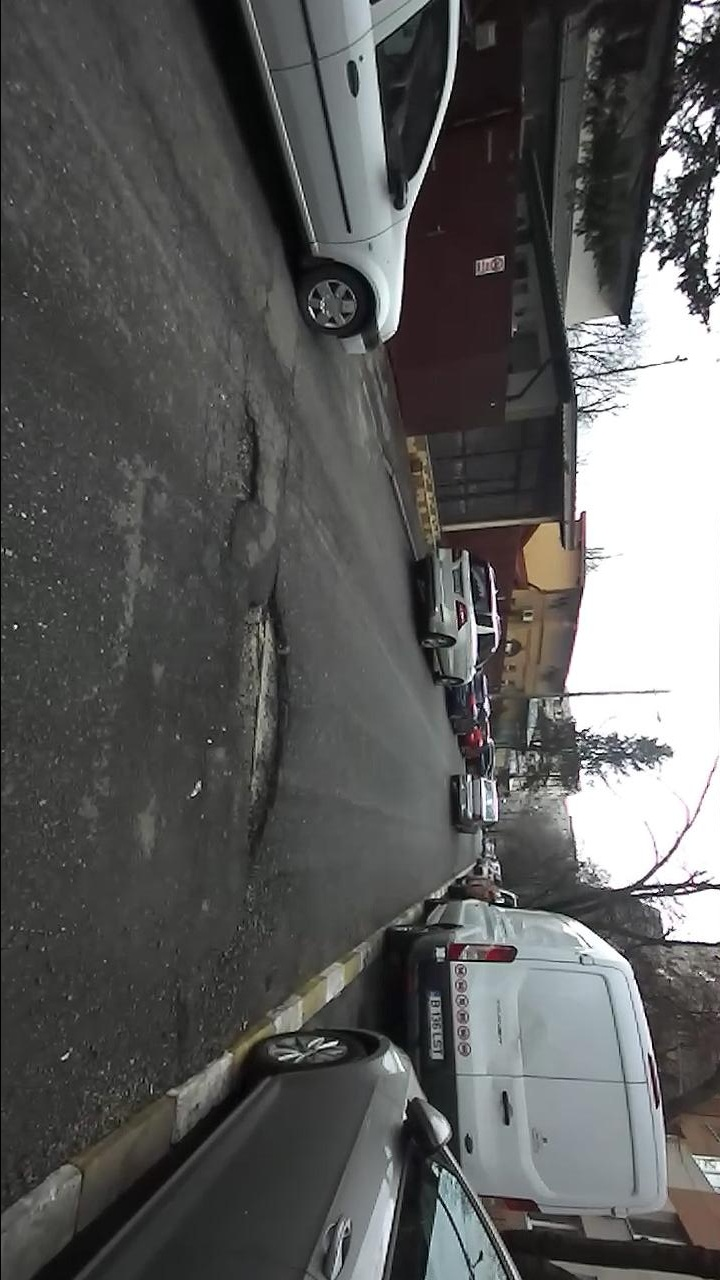pothole: (221, 585, 297, 889), (215, 388, 265, 555)
